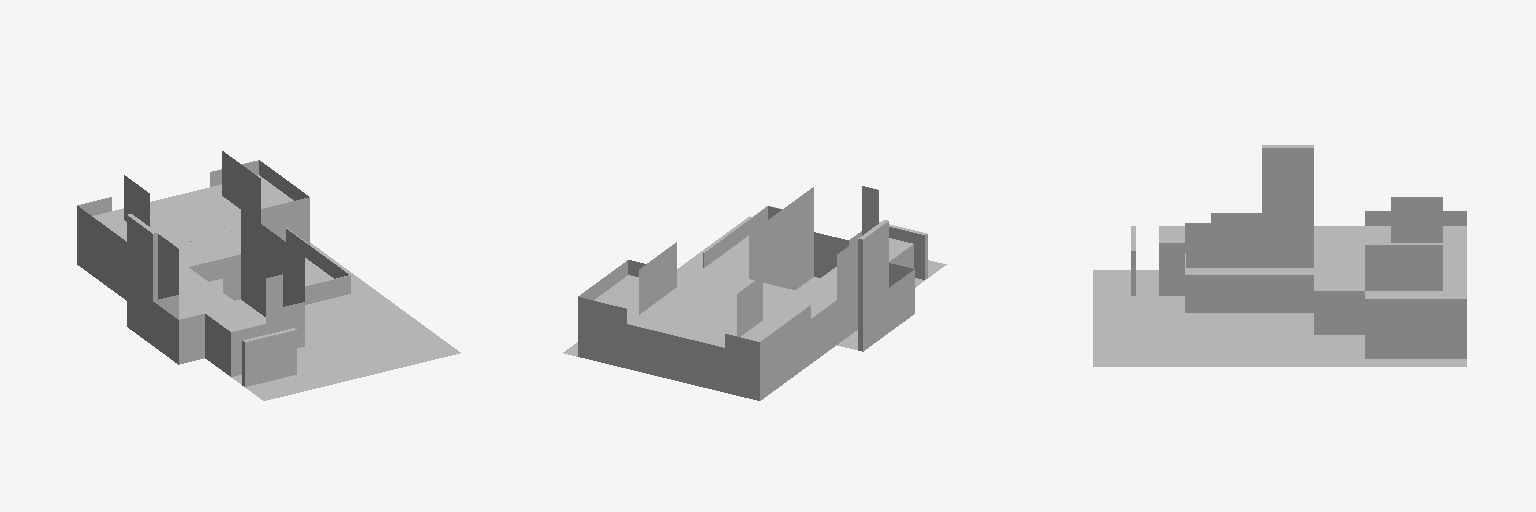
The model's file is house1_open2.obj.
3 renders of one model, left to right at view 1: azimuth 30°, elevation 25°; view 2: azimuth 150°, elevation 25°; view 3: azimuth 270°, elevation 25°, orthographic.
Parts seen in each view (by area): view 1: Plane, Plane.030, Plane.036, Plane.071, Plane.068, Plane.004, Plane.073, Plane.051, Plane.003, Plane.005, Plane.001, Plane.008 (+3 smaller); view 2: Plane, Plane.036, Plane.071, Plane.051, Plane.068, Plane.069, Plane.004, Plane.030, Plane.002, Plane.003, Plane.001, Plane.007 (+3 smaller); view 3: Plane.030, Plane, Plane.004, Plane.051, Plane.036, Plane.001, Plane.002, Plane.003, Plane.069, Plane.073, Plane.068, Plane.010 (+12 smaller).
Part boxes in pixels (bbox=[...]): Plane: bbox=[77, 175, 350, 386]; Plane.030: bbox=[231, 243, 460, 400]; Plane.036: bbox=[127, 214, 157, 345]; Plane.071: bbox=[112, 194, 233, 244]; Plane.068: bbox=[179, 261, 264, 331]; Plane.004: bbox=[286, 228, 350, 301]; Plane.073: bbox=[297, 347, 349, 387]; Plane.051: bbox=[158, 235, 178, 299]; Plane.003: bbox=[284, 242, 304, 299]; Plane.005: bbox=[241, 257, 261, 312]; Plane.001: bbox=[241, 211, 260, 267]; Plane.008: bbox=[267, 276, 281, 333]; Plane: bbox=[578, 222, 927, 400]; Plane.036: bbox=[858, 220, 888, 351]; Plane.071: bbox=[654, 293, 774, 347]; Plane.051: bbox=[837, 241, 857, 342]; Plane.068: bbox=[776, 238, 912, 318]; Plane.069: bbox=[678, 268, 766, 300]; Plane.004: bbox=[703, 206, 813, 267]; Plane.030: bbox=[563, 216, 946, 356]; Plane.002: bbox=[771, 204, 791, 261]; Plane.003: bbox=[793, 189, 812, 245]; Plane.001: bbox=[750, 220, 769, 276]; Plane.007: bbox=[793, 236, 812, 289]; Plane.030: bbox=[1093, 270, 1466, 366]; Plane: bbox=[1131, 213, 1466, 334]; Plane.004: bbox=[1185, 253, 1313, 290]; Plane.051: bbox=[1264, 181, 1312, 222]; Plane.036: bbox=[1262, 145, 1313, 179]; Plane.001: bbox=[1272, 224, 1312, 266]; Plane.002: bbox=[1229, 224, 1269, 266]; Plane.003: bbox=[1186, 224, 1226, 266]; Plane.069: bbox=[1314, 260, 1364, 290]; Plane.073: bbox=[1093, 296, 1184, 312]; Plane.068: bbox=[1159, 226, 1364, 242]; Plane.010: bbox=[1367, 316, 1397, 357].
Bounding box in the file's own units: 9.6 × 4.59 × 13.86.